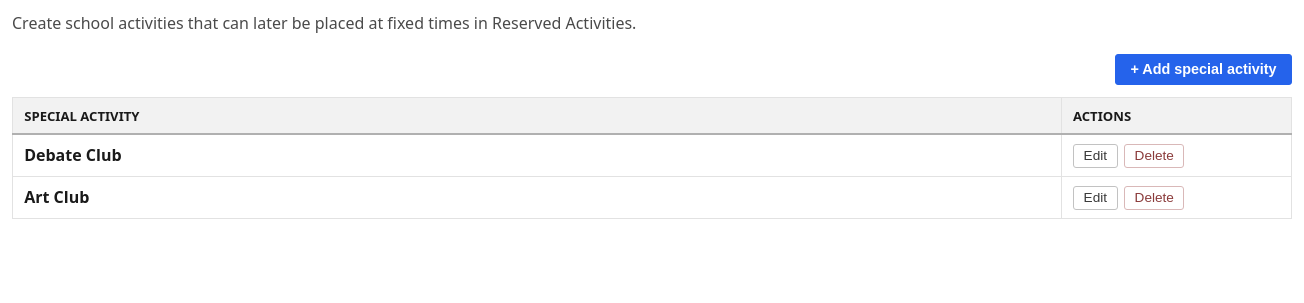
Test: SpecialActivitiesPanel › edit Cancel discards local edit state
expect the column heading "Debate Club" is shown: met, box x1=12 y1=134 x2=1061 y2=177
Click the button "Edit" in the row of "Debate Club" at (1095, 156), box x1=1073 y1=144 x2=1118 y2=168
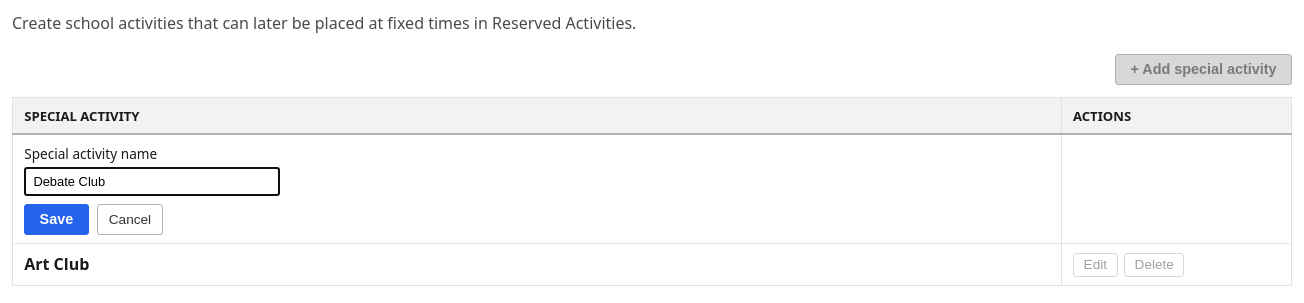
Replace the text in the field labelled "Special activity name" with "Changed" at (152, 182), box x1=24 y1=167 x2=280 y2=196
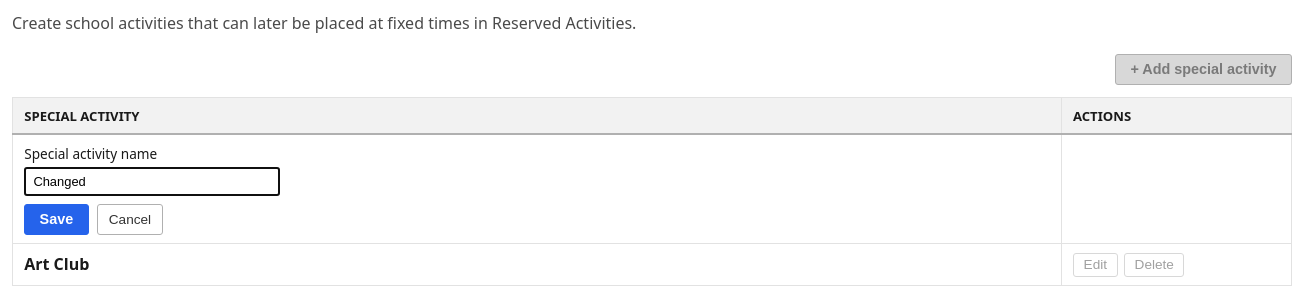
Click the button "Cancel" at (130, 219), box x1=97 y1=204 x2=163 y2=235
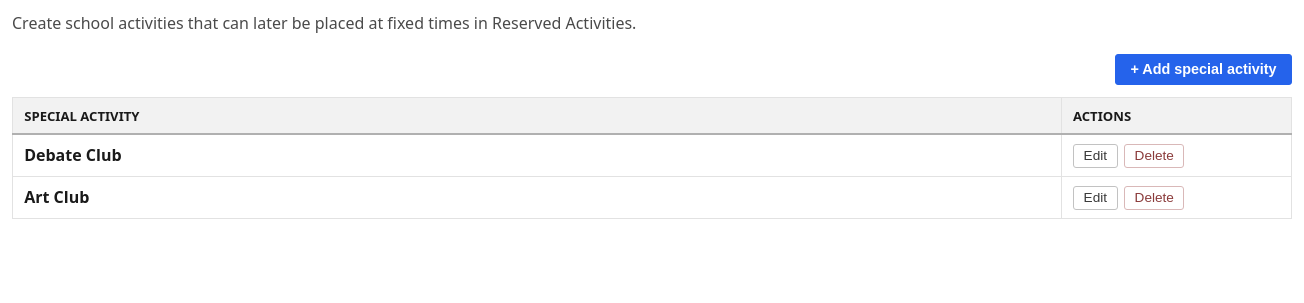
expect the column heading "Debate Club" is shown: met, box x1=12 y1=134 x2=1061 y2=177
